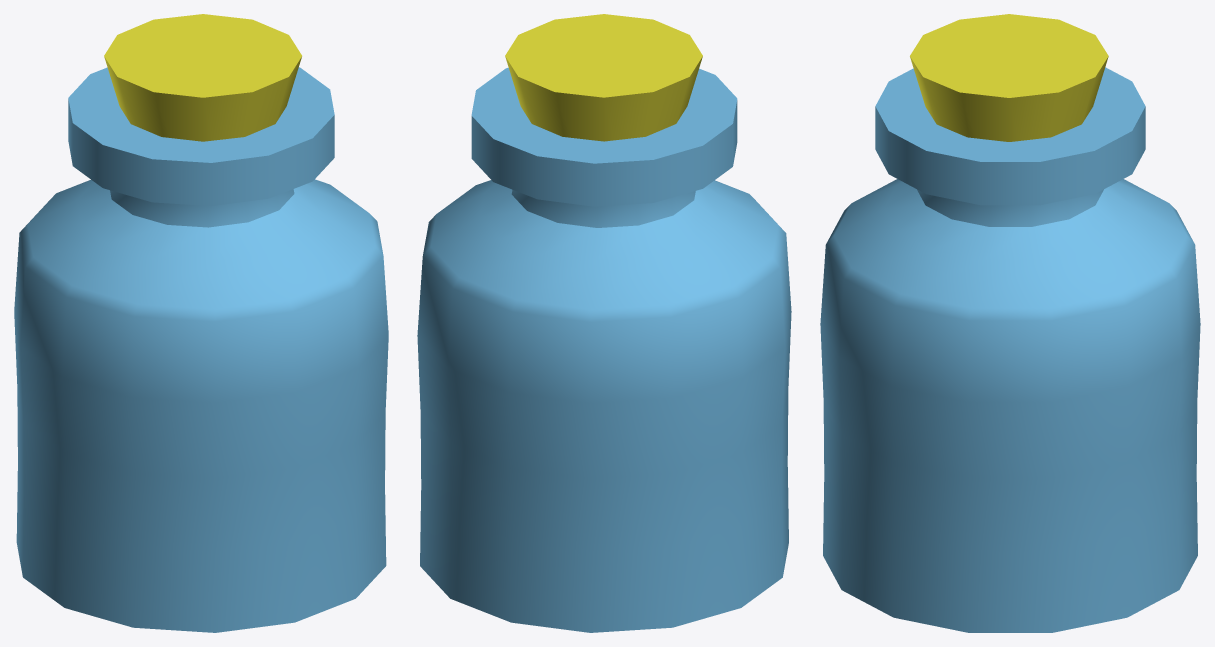
Rendered from olho.fbx.
3 views of the same model, side by side, from view 1: azimuth 30°, elevation 25°; view 2: azimuth 150°, elevation 25°; view 3: azimuth 270°, elevation 25° (orthographic).
Visible parts, largest first — view 1: Sphere, Cylinder; view 2: Sphere, Cylinder; view 3: Sphere, Cylinder.
Boxes of the visible parts, box(x1,y1,x2,y2) form: Sphere: box(14, 67, 388, 632); Cylinder: box(104, 14, 301, 141); Sphere: box(417, 67, 791, 632); Cylinder: box(505, 14, 702, 141); Sphere: box(820, 67, 1200, 632); Cylinder: box(910, 14, 1108, 141).
Bounding box in the file's own units: 16.51 × 24.58 × 16.93.
